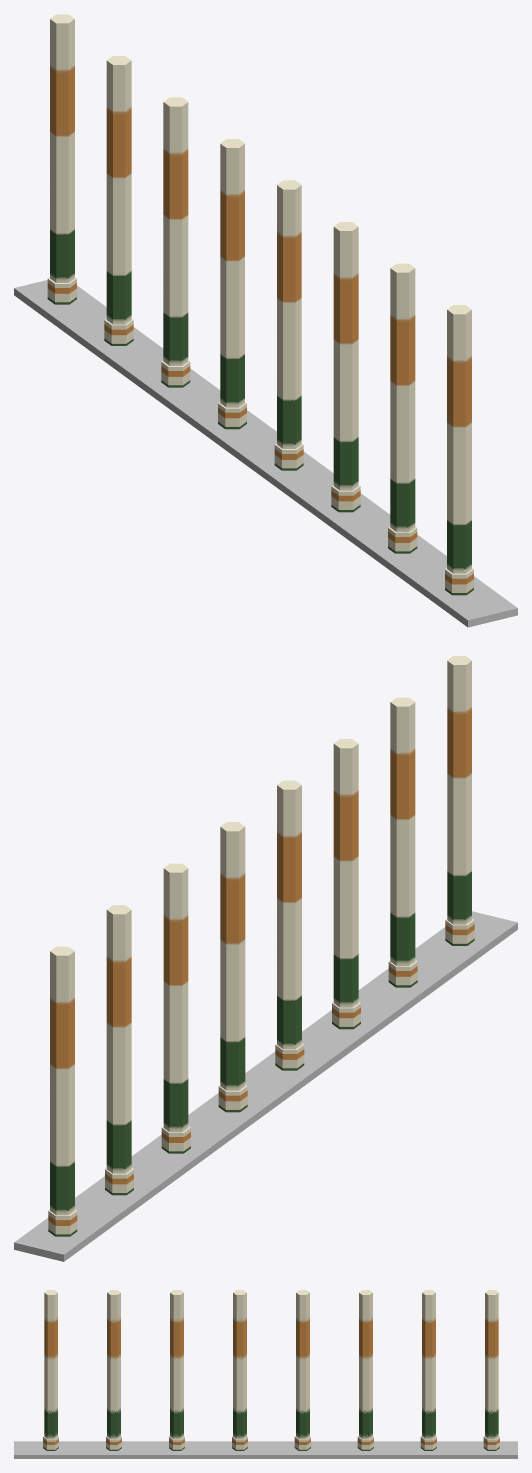
Rendered from MFC weave poles.fbx.
3 renders of one model, top to bottom at view 1: azimuth 30°, elevation 25°; view 2: azimuth 150°, elevation 25°; view 3: azimuth 270°, elevation 25°, orthographic. The views are drawn at different scales.
Parts seen in each view (by area): view 1: Cylinder, Cube; view 2: Cylinder, Cube; view 3: Cylinder, Cube.
Part boxes in pixels (x1,y1,x2,y2): Cylinder: [47, 14, 473, 595]; Cube: [14, 280, 517, 627]; Cylinder: [48, 656, 474, 1236]; Cube: [14, 911, 517, 1261]; Cylinder: [43, 1290, 499, 1450]; Cube: [14, 1441, 517, 1458].
Size of the model in its own units: 70.56 by 388 by 1110.
